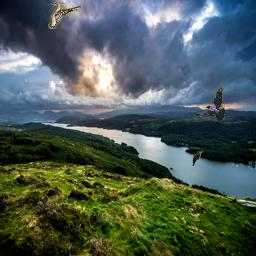Crow: (195, 85, 225, 121)
Cuckoo: (48, 2, 81, 29), (192, 151, 203, 166)
